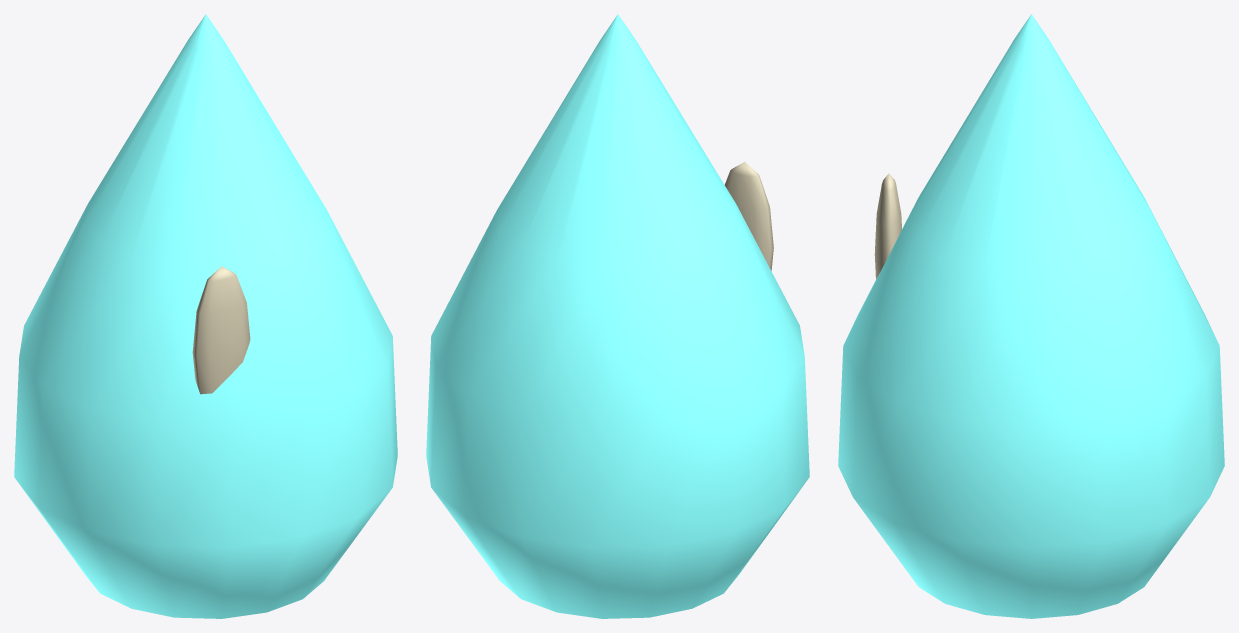
The model's file is dew_drop.glb.
3 renders of one model, left to right at view 1: azimuth 30°, elevation 25°; view 2: azimuth 150°, elevation 25°; view 3: azimuth 270°, elevation 25°, orthographic.
Parts seen in each view (by area): view 1: DewCrystal; view 2: DewCrystal; view 3: DewCrystal.
Boxes of the visible parts, bbox=[...] form: DewCrystal: bbox=[14, 14, 397, 618]; DewCrystal: bbox=[426, 14, 809, 618]; DewCrystal: bbox=[838, 14, 1224, 618].
Size of the model in its own units: 0.38 by 0.65 by 0.38.
